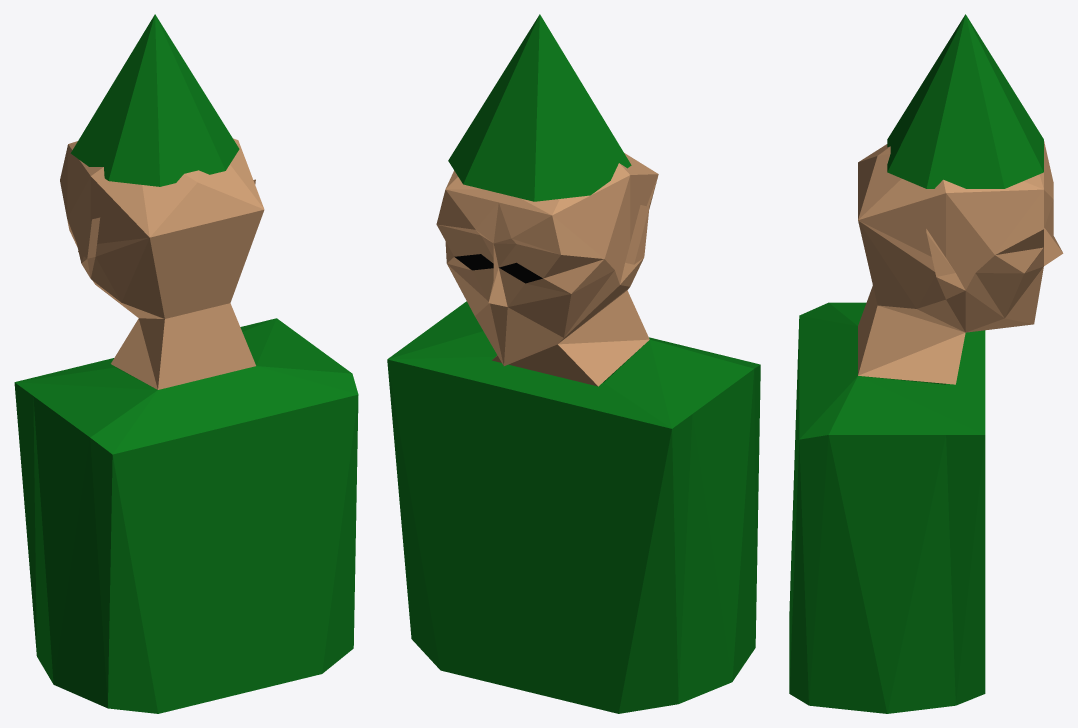
File: npc_world_gnome_child_3_1.obj
The picture shows the model from 3 angles, left to right: view 1: azimuth 30°, elevation 25°; view 2: azimuth 150°, elevation 25°; view 3: azimuth 270°, elevation 25°; orthographic projection. The views are drawn at different scales.
Size of the model in its own units: 0.2656 by 0.5625 by 0.2188.
